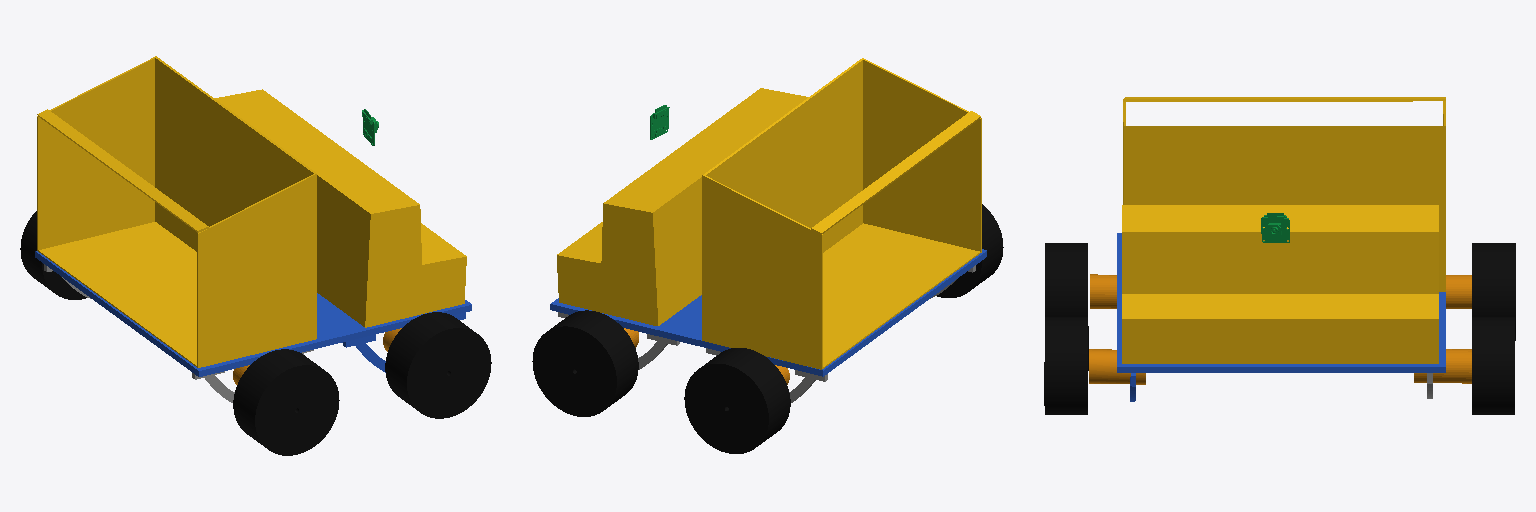
The robot description file, URDF, robot "jnnp_robodojo_robot":
<?xml version="1.0"?>
<robot name="jnnp_robodojo_robot">
  <!-- Frames: base_footprint on the ground; base_link at wheel-axle height, robot centre.
       ROS convention: +X forward, +Y left, +Z up. Meshes are rotated from the CAD frame. -->
  <link name="base_footprint" />
  <joint name="base_joint" type="fixed">
    <parent link="base_footprint" />
    <child link="base_link" />
    <origin xyz="0 0 0.0425" rpy="0 0 0" />
  </joint>
  <!-- Chassis -->
  <link name="base_link">
    <visual>
      <origin xyz="-0.1513 0.1259 -0.0456" rpy="0 0 -1.5708" />
      <geometry>
        <mesh filename="package://jnnp_robodojo_robot/meshes/combinationofchassis.stl" scale="0.001 0.001 0.001" />
      </geometry>
      <material name="combinationofchassis_mat">
        <color rgba="0.2 0.4 0.8 1" />
      </material>
    </visual>
    <collision>
      <origin xyz="-0.0016 0.0012 -0.0023" rpy="0 0 0" />
      <geometry>
        <box size="0.2751 0.2859 0.0588" />
      </geometry>
    </collision>
    <inertial>
      <origin xyz="-0.0016 0.0012 -0.0023" rpy="0 0 0" />
      <mass value="1.2" />
      <inertia ixx="0.00851962" ixy="0" ixz="0" iyy="0.00791375" iyz="0" izz="0.0157419" />
    </inertial>
  </link>
  <!-- Fixed body parts -->
  <link name="front_cabin_link">
    <visual>
      <origin xyz="-0.1513 0.1259 -0.0456" rpy="0 0 -1.5708" />
      <geometry>
        <mesh filename="package://jnnp_robodojo_robot/meshes/frontcabin.stl" scale="0.001 0.001 0.001" />
      </geometry>
      <material name="frontcabin_mat">
        <color rgba="0.95 0.75 0.1 1" />
      </material>
    </visual>
    <collision>
      <origin xyz="0.0819 0.0004 0.0788" rpy="0 0 0" />
      <geometry>
        <box size="0.1025 0.2750 0.1132" />
      </geometry>
    </collision>
    <inertial>
      <origin xyz="0.0819 0.0004 0.0788" rpy="0 0 0" />
      <mass value="0.3" />
      <inertia ixx="0.00221098" ixy="0" ixz="0" iyy="0.000583012" iyz="0" izz="0.00215328" />
    </inertial>
  </link>
  <joint name="front_cabin_joint" type="fixed">
    <parent link="base_link" />
    <child link="front_cabin_link" />
    <origin xyz="0.0000 0.0000 0.0000" rpy="0 0 0" />
  </joint>
  <link name="wheel_holder_2_link">
    <visual>
      <origin xyz="-0.1513 0.1259 -0.0456" rpy="0 0 -1.5708" />
      <geometry>
        <mesh filename="package://jnnp_robodojo_robot/meshes/wheelholder2.stl" scale="0.001 0.001 0.001" />
      </geometry>
      <material name="wheelholder2_mat">
        <color rgba="0.6 0.6 0.6 1" />
      </material>
    </visual>
    <inertial>
      <origin xyz="-0.0753 0.1324 -0.0036" rpy="0 0 0" />
      <mass value="0.03" />
      <inertia ixx="6.3125e-06" ixy="0" ixz="0" iyy="4.225e-05" iyz="0" izz="3.60625e-05" />
    </inertial>
  </link>
  <joint name="wheel_holder_2_joint" type="fixed">
    <parent link="base_link" />
    <child link="wheel_holder_2_link" />
    <origin xyz="0.0000 0.0000 0.0000" rpy="0 0 0" />
  </joint>
  <link name="wheel_holder_001_link">
    <visual>
      <origin xyz="-0.1513 0.1259 -0.0456" rpy="0 0 -1.5708" />
      <geometry>
        <mesh filename="package://jnnp_robodojo_robot/meshes/wheelholder001.stl" scale="0.001 0.001 0.001" />
      </geometry>
      <material name="wheelholder001_mat">
        <color rgba="0.6 0.6 0.6 1" />
      </material>
    </visual>
    <inertial>
      <origin xyz="-0.0753 -0.1256 -0.0026" rpy="0 0 0" />
      <mass value="0.03" />
      <inertia ixx="6.3125e-06" ixy="0" ixz="0" iyy="4.225e-05" iyz="0" izz="3.60625e-05" />
    </inertial>
  </link>
  <joint name="wheel_holder_001_joint" type="fixed">
    <parent link="base_link" />
    <child link="wheel_holder_001_link" />
    <origin xyz="0.0000 0.0000 0.0000" rpy="0 0 0" />
  </joint>
  <link name="wheel_holder_002_link">
    <visual>
      <origin xyz="-0.1513 0.1259 -0.0456" rpy="0 0 -1.5708" />
      <geometry>
        <mesh filename="package://jnnp_robodojo_robot/meshes/wheelholder002.stl" scale="0.001 0.001 0.001" />
      </geometry>
      <material name="wheelholder002_mat">
        <color rgba="0.6 0.6 0.6 1" />
      </material>
    </visual>
    <inertial>
      <origin xyz="0.0747 0.1304 -0.0046" rpy="0 0 0" />
      <mass value="0.03" />
      <inertia ixx="6.3125e-06" ixy="0" ixz="0" iyy="4.225e-05" iyz="0" izz="3.60625e-05" />
    </inertial>
  </link>
  <joint name="wheel_holder_002_joint" type="fixed">
    <parent link="base_link" />
    <child link="wheel_holder_002_link" />
    <origin xyz="0.0000 0.0000 0.0000" rpy="0 0 0" />
  </joint>
  <link name="motor_1_link">
    <visual>
      <origin xyz="-0.1513 0.1259 -0.0456" rpy="0 0 -1.5708" />
      <geometry>
        <mesh filename="package://jnnp_robodojo_robot/meshes/dcgearmotor1.stl" scale="0.001 0.001 0.001" />
      </geometry>
      <material name="dcgearmotor1_mat">
        <color rgba="0.85 0.55 0.1 1" />
      </material>
    </visual>
    <inertial>
      <origin xyz="0.0758 -0.1410 -0.0010" rpy="0 0 0" />
      <mass value="0.1" />
      <inertia ixx="2.95327e-05" ixy="0" ixz="0" iyy="1.57123e-05" iyz="0" izz="2.90211e-05" />
    </inertial>
  </link>
  <joint name="motor_1_joint" type="fixed">
    <parent link="base_link" />
    <child link="motor_1_link" />
    <origin xyz="0.0000 0.0000 0.0000" rpy="0 0 0" />
  </joint>
  <link name="motor_2_link">
    <visual>
      <origin xyz="-0.1513 0.1259 -0.0456" rpy="0 0 -1.5708" />
      <geometry>
        <mesh filename="package://jnnp_robodojo_robot/meshes/dcgearmotor2.stl" scale="0.001 0.001 0.001" />
      </geometry>
      <material name="dcgearmotor2_mat">
        <color rgba="0.85 0.55 0.1 1" />
      </material>
    </visual>
    <inertial>
      <origin xyz="-0.0750 -0.1400 0.0005" rpy="0 0 0" />
      <mass value="0.1" />
      <inertia ixx="2.87521e-05" ixy="0" ixz="0" iyy="1.54053e-05" iyz="0" izz="2.91574e-05" />
    </inertial>
  </link>
  <joint name="motor_2_joint" type="fixed">
    <parent link="base_link" />
    <child link="motor_2_link" />
    <origin xyz="0.0000 0.0000 0.0000" rpy="0 0 0" />
  </joint>
  <link name="motor_3_link">
    <visual>
      <origin xyz="-0.1513 0.1259 -0.0456" rpy="0 0 -1.5708" />
      <geometry>
        <mesh filename="package://jnnp_robodojo_robot/meshes/dcgearmotor3.stl" scale="0.001 0.001 0.001" />
      </geometry>
      <material name="dcgearmotor3_mat">
        <color rgba="0.85 0.55 0.1 1" />
      </material>
    </visual>
    <inertial>
      <origin xyz="-0.0760 0.1443 -0.0001" rpy="0 0 0" />
      <mass value="0.1" />
      <inertia ixx="2.83333e-05" ixy="0" ixz="0" iyy="1.49501e-05" iyz="0" izz="2.82834e-05" />
    </inertial>
  </link>
  <joint name="motor_3_joint" type="fixed">
    <parent link="base_link" />
    <child link="motor_3_link" />
    <origin xyz="0.0000 0.0000 0.0000" rpy="0 0 0" />
  </joint>
  <link name="motor_4_link">
    <visual>
      <origin xyz="-0.1513 0.1259 -0.0456" rpy="0 0 -1.5708" />
      <geometry>
        <mesh filename="package://jnnp_robodojo_robot/meshes/dcgearmotor4.stl" scale="0.001 0.001 0.001" />
      </geometry>
      <material name="dcgearmotor4_mat">
        <color rgba="0.85 0.55 0.1 1" />
      </material>
    </visual>
    <inertial>
      <origin xyz="0.0772 0.1418 0.0004" rpy="0 0 0" />
      <mass value="0.1" />
      <inertia ixx="2.87521e-05" ixy="0" ixz="0" iyy="1.54053e-05" iyz="0" izz="2.91574e-05" />
    </inertial>
  </link>
  <joint name="motor_4_joint" type="fixed">
    <parent link="base_link" />
    <child link="motor_4_link" />
    <origin xyz="0.0000 0.0000 0.0000" rpy="0 0 0" />
  </joint>
  <!-- Sensors (frame at sensor centre, X forward) -->
  <link name="rplidar_link">
    <visual>
      <origin xyz="-0.2099 0.1273 -0.2018" rpy="0 0 -1.5708" />
      <geometry>
        <mesh filename="package://jnnp_robodojo_robot/meshes/lidar.stl" scale="0.001 0.001 0.001" />
      </geometry>
      <material name="lidar_mat">
        <color rgba="0.15 0.15 0.15 1" />
      </material>
    </visual>
    <inertial>
      <origin xyz="-0.0001 0.0000 -0.0000" rpy="0 0 0" />
      <mass value="0.17" />
      <inertia ixx="0.000120625" ixy="0" ixz="0" iyy="0.000179664" iyz="0" izz="0.000209201" />
    </inertial>
  </link>
  <joint name="rplidar_joint" type="fixed">
    <parent link="base_link" />
    <child link="rplidar_link" />
    <origin xyz="0.0586 -0.0014 0.1562" rpy="0 0 0" />
  </joint>
  <link name="camera_link">
    <visual>
      <origin xyz="-0.2648 0.1297 -0.1941" rpy="0 0 -1.5708" />
      <geometry>
        <mesh filename="package://jnnp_robodojo_robot/meshes/cameramodule3.stl" scale="0.001 0.001 0.001" />
      </geometry>
      <material name="cameramodule3_mat">
        <color rgba="0.1 0.6 0.3 1" />
      </material>
    </visual>
    <inertial>
      <origin xyz="0.0000 0.0000 0.0001" rpy="0 0 0" />
      <mass value="0.01" />
      <inertia ixx="1.23254e-06" ixy="0" ixz="0" iyy="8.29417e-07" iyz="0" izz="6.89142e-07" />
    </inertial>
  </link>
  <joint name="camera_joint" type="fixed">
    <parent link="front_cabin_link" />
    <child link="camera_link" />
    <origin xyz="0.1135 -0.0038 0.1485" rpy="0 0 0" />
  </joint>
  <!-- Back cabin (dump bed) on a hinge at the rear top edge of the chassis -->
  <link name="back_cabin_link">
    <visual>
      <origin xyz="-0.0140 0.1220 -0.0720" rpy="0 0 -1.5708" />
      <geometry>
        <mesh filename="package://jnnp_robodojo_robot/meshes/backcabin.stl" scale="0.001 0.001 0.001" />
      </geometry>
      <material name="backcabin_mat">
        <color rgba="0.95 0.75 0.1 1" />
      </material>
    </visual>
    <collision>
      <origin xyz="0.0603 0.0001 0.0800" rpy="0 0 0" />
      <geometry>
        <box size="0.1204 0.2802 0.1600" />
      </geometry>
    </collision>
    <inertial>
      <origin xyz="0.0603 0.0001 0.0800" rpy="0 0 0" />
      <mass value="0.4" />
      <inertia ixx="0.0034704" ixy="0" ixz="0" iyy="0.00133654" iyz="0" izz="0.00310027" />
    </inertial>
  </link>
  <joint name="back_cabin_joint" type="revolute">
    <parent link="base_link" />
    <child link="back_cabin_link" />
    <origin xyz="-0.1373 0.0039 0.0264" rpy="0 0 0" />
    <axis xyz="0 -1 0" />
    <limit lower="0.0" upper="0.785" effort="20.0" velocity="1.0" />
    <dynamics damping="0.5" friction="0.1" />
  </joint>
  <!-- Wheels (axis = +Y; positive spin drives forward) -->
  <link name="wheel_1_link">
    <!-- front right -->
    <visual>
      <origin xyz="-0.2270 0.3114 -0.0451" rpy="0 0 -1.5708" />
      <geometry>
        <mesh filename="package://jnnp_robodojo_robot/meshes/wheel1.stl" scale="0.001 0.001 0.001" />
      </geometry>
      <material name="wheel1_mat">
        <color rgba="0.1 0.1 0.1 1" />
      </material>
    </visual>
    <collision>
      <origin xyz="0 0 0" rpy="1.5708 0 0" />
      <geometry>
        <cylinder radius="0.0425" length="0.038" />
      </geometry>
    </collision>
    <inertial>
      <origin xyz="0.0000 0.0000 0.0000" rpy="0 0 0" />
      <mass value="0.08" />
      <inertia ixx="4.57517e-05" ixy="0" ixz="0" iyy="7.225e-05" iyz="0" izz="4.57517e-05" />
    </inertial>
  </link>
  <joint name="wheel_1_joint" type="continuous">
    <parent link="motor_1_link" />
    <child link="wheel_1_link" />
    <origin xyz="0.0765 -0.1855 0.0000" rpy="0 0 0" />
    <axis xyz="0 1 0" />
    <dynamics damping="0.01" friction="0.0" />
  </joint>
  <link name="wheel_2_link">
    <!-- rear right -->
    <visual>
      <origin xyz="-0.0759 0.3094 -0.0461" rpy="0 0 -1.5708" />
      <geometry>
        <mesh filename="package://jnnp_robodojo_robot/meshes/wheel2.stl" scale="0.001 0.001 0.001" />
      </geometry>
      <material name="wheel2_mat">
        <color rgba="0.1 0.1 0.1 1" />
      </material>
    </visual>
    <collision>
      <origin xyz="0 0 0" rpy="1.5708 0 0" />
      <geometry>
        <cylinder radius="0.0425" length="0.038" />
      </geometry>
    </collision>
    <inertial>
      <origin xyz="0.0000 0.0000 0.0000" rpy="0 0 0" />
      <mass value="0.08" />
      <inertia ixx="4.57517e-05" ixy="0" ixz="0" iyy="7.225e-05" iyz="0" izz="4.57517e-05" />
    </inertial>
  </link>
  <joint name="wheel_2_joint" type="continuous">
    <parent link="motor_2_link" />
    <child link="wheel_2_link" />
    <origin xyz="-0.0765 -0.1855 0.0000" rpy="0 0 0" />
    <axis xyz="0 1 0" />
    <dynamics damping="0.01" friction="0.0" />
  </joint>
  <link name="wheel_3_link">
    <!-- rear left -->
    <visual>
      <origin xyz="-0.0754 -0.0599 -0.0455" rpy="0 0 -1.5708" />
      <geometry>
        <mesh filename="package://jnnp_robodojo_robot/meshes/wheel3.stl" scale="0.001 0.001 0.001" />
      </geometry>
      <material name="wheel3_mat">
        <color rgba="0.1 0.1 0.1 1" />
      </material>
    </visual>
    <collision>
      <origin xyz="0 0 0" rpy="1.5708 0 0" />
      <geometry>
        <cylinder radius="0.0425" length="0.038" />
      </geometry>
    </collision>
    <inertial>
      <origin xyz="0.0000 0.0000 0.0000" rpy="0 0 0" />
      <mass value="0.08" />
      <inertia ixx="4.57517e-05" ixy="0" ixz="0" iyy="7.225e-05" iyz="0" izz="4.57517e-05" />
    </inertial>
  </link>
  <joint name="wheel_3_joint" type="continuous">
    <parent link="motor_3_link" />
    <child link="wheel_3_link" />
    <origin xyz="-0.0765 0.1855 0.0000" rpy="0 0 0" />
    <axis xyz="0 1 0" />
    <dynamics damping="0.01" friction="0.0" />
  </joint>
  <link name="wheel_4_link">
    <!-- front left -->
    <visual>
      <origin xyz="-0.2289 -0.0594 -0.0460" rpy="0 0 -1.5708" />
      <geometry>
        <mesh filename="package://jnnp_robodojo_robot/meshes/wheel4.stl" scale="0.001 0.001 0.001" />
      </geometry>
      <material name="wheel4_mat">
        <color rgba="0.1 0.1 0.1 1" />
      </material>
    </visual>
    <collision>
      <origin xyz="0 0 0" rpy="1.5708 0 0" />
      <geometry>
        <cylinder radius="0.0425" length="0.038" />
      </geometry>
    </collision>
    <inertial>
      <origin xyz="0.0000 0.0000 0.0000" rpy="0 0 0" />
      <mass value="0.08" />
      <inertia ixx="4.57517e-05" ixy="0" ixz="0" iyy="7.225e-05" iyz="0" izz="4.57517e-05" />
    </inertial>
  </link>
  <joint name="wheel_4_joint" type="continuous">
    <parent link="motor_4_link" />
    <child link="wheel_4_link" />
    <origin xyz="0.0765 0.1855 0.0000" rpy="0 0 0" />
    <axis xyz="0 1 0" />
    <dynamics damping="0.01" friction="0.0" />
  </joint>
  <!-- ================= GAZEBO (Harmonic) ================= -->
  <gazebo>
    <!-- Skid-steer drive: /cmd_vel in, /odom + odom->base_footprint TF out -->
    <plugin filename="gz-sim-diff-drive-system" name="gz::sim::systems::DiffDrive">
      <left_joint>wheel_3_joint</left_joint>
      <left_joint>wheel_4_joint</left_joint>
      <right_joint>wheel_1_joint</right_joint>
      <right_joint>wheel_2_joint</right_joint>
      <wheel_separation>0.371</wheel_separation>
      <wheel_radius>0.0425</wheel_radius>
      <max_linear_acceleration>1.0</max_linear_acceleration>
      <max_angular_acceleration>2.0</max_angular_acceleration>
      <topic>cmd_vel</topic>
      <odom_topic>odom</odom_topic>
      <tf_topic>tf</tf_topic>
      <frame_id>odom</frame_id>
      <child_frame_id>base_footprint</child_frame_id>
      <odom_publish_frequency>30</odom_publish_frequency>
    </plugin>
    <!-- Publishes wheel + back cabin joint angles on /joint_states -->
    <plugin filename="gz-sim-joint-state-publisher-system" name="gz::sim::systems::JointStatePublisher">
      <topic>joint_states</topic>
    </plugin>
  </gazebo>
  <!-- RPLidar A1-like 2D lidar: 360 samples, 10 Hz, 12 m.
       min range 0.20 m so the beam ignores the robot's own camera and back cabin. -->
  <gazebo reference="rplidar_link">
    <sensor name="rplidar" type="gpu_lidar">
      <gz_frame_id>rplidar_link</gz_frame_id>
      <topic>scan</topic>
      <always_on>true</always_on>
      <visualize>false</visualize>
      <update_rate>10</update_rate>
      <lidar>
        <scan>
          <horizontal>
            <samples>360</samples>
            <resolution>1</resolution>
            <min_angle>-3.14159</min_angle>
            <max_angle>3.14159</max_angle>
          </horizontal>
        </scan>
        <range>
          <min>0.20</min>
          <max>12.0</max>
          <resolution>0.01</resolution>
        </range>
      </lidar>
    </sensor>
  </gazebo>
  <!-- Back cabin dump control: publish the angle (rad) on /dump_cmd -->
  <gazebo>
    <plugin filename="gz-sim-joint-position-controller-system" name="gz::sim::systems::JointPositionController">
      <joint_name>back_cabin_joint</joint_name>
      <topic>dump_cmd</topic>
      <use_velocity_commands>true</use_velocity_commands>
      <p_gain>2.0</p_gain>
      <cmd_max>0.8</cmd_max>
      <cmd_min>-0.8</cmd_min>
    </plugin>
  </gazebo>
  <!-- Pi Camera Module 3 (66 deg wide), 640x480 at 15 fps, looking forward from camera_link -->
  <gazebo reference="camera_link">
    <sensor name="pi_camera" type="camera">
      <gz_frame_id>camera_link</gz_frame_id>
      <topic>camera/image_raw</topic>
      <always_on>true</always_on>
      <visualize>true</visualize>
      <update_rate>5</update_rate>
      <camera>
        <camera_info_topic>camera/camera_info</camera_info_topic>
        <horizontal_fov>1.15</horizontal_fov>
        <image>
          <width>320</width>
          <height>240</height>
          <format>R8G8B8</format>
        </image>
        <clip>
          <near>0.05</near>
          <far>15</far>
        </clip>
      </camera>
    </sensor>
  </gazebo>
  <gazebo reference="wheel_3_link">
    <mu1>0.5</mu1>
    <mu2>0.5</mu2>
    <kp>1000000.0</kp>
    <kd>100.0</kd>
    <minDepth>0.001</minDepth>
  </gazebo>
  <gazebo reference="wheel_4_link">
    <mu1>0.5</mu1>
    <mu2>0.5</mu2>
    <kp>1000000.0</kp>
    <kd>100.0</kd>
    <minDepth>0.001</minDepth>
  </gazebo>
  <gazebo reference="wheel_1_link">
    <mu1>0.5</mu1>
    <mu2>0.5</mu2>
    <kp>1000000.0</kp>
    <kd>100.0</kd>
    <minDepth>0.001</minDepth>
  </gazebo>
  <gazebo reference="wheel_2_link">
    <mu1>0.5</mu1>
    <mu2>0.5</mu2>
    <kp>1000000.0</kp>
    <kd>100.0</kd>
    <minDepth>0.001</minDepth>
  </gazebo>
</robot>

--- What the picture shows (computed from the rendered views, not written in the file) ---
3 views of the same robot in one strip: view 1: azimuth 30°, elevation 25°; view 2: azimuth 150°, elevation 25°; view 3: azimuth 270°, elevation 25° (orthographic).
Model jnnp_robodojo_robot with 17 links and 16 joints (1 revolute, 4 continuous, 11 fixed), rooted at base_footprint, posed every joint at zero.
Visible links, largest first — view 1: back_cabin_link, front_cabin_link, wheel_1_link, wheel_2_link, base_link, wheel_3_link; view 2: back_cabin_link, front_cabin_link, wheel_4_link, wheel_3_link, base_link, wheel_2_link, wheel_holder_002_link; view 3: front_cabin_link, back_cabin_link, wheel_1_link, base_link, wheel_4_link, wheel_3_link, wheel_2_link, motor_1_link, motor_4_link, motor_2_link, motor_3_link, camera_link.
Link boxes in pixels (x1,y1,x2,y2): back_cabin_link: [37, 56, 316, 367]; front_cabin_link: [214, 89, 466, 327]; wheel_1_link: [385, 312, 491, 418]; wheel_2_link: [233, 349, 339, 455]; base_link: [35, 251, 471, 376]; wheel_3_link: [20, 211, 86, 299]; back_cabin_link: [702, 58, 981, 369]; front_cabin_link: [557, 88, 807, 325]; wheel_4_link: [532, 310, 638, 416]; wheel_3_link: [684, 348, 790, 453]; base_link: [550, 249, 986, 376]; wheel_2_link: [937, 204, 1003, 297]; wheel_holder_002_link: [558, 312, 679, 369]; front_cabin_link: [1122, 205, 1438, 363]; back_cabin_link: [1123, 97, 1445, 291]; wheel_1_link: [1044, 317, 1088, 414]; base_link: [1117, 233, 1445, 401]; wheel_4_link: [1472, 317, 1514, 414]; wheel_3_link: [1472, 243, 1515, 340]; wheel_2_link: [1045, 243, 1087, 316]; motor_1_link: [1089, 349, 1145, 384]; motor_4_link: [1414, 349, 1471, 383]; motor_2_link: [1090, 274, 1116, 308]; motor_3_link: [1446, 275, 1471, 308]; camera_link: [1261, 213, 1289, 242].
Bounding box of the posed robot: 0.2751 × 0.4091 × 0.2289 m (x, y, z).
15 mesh visuals loaded from 16 distinct referenced files (15 binary STL); not drawn: 1 (reference not matched to a file when rendering).
